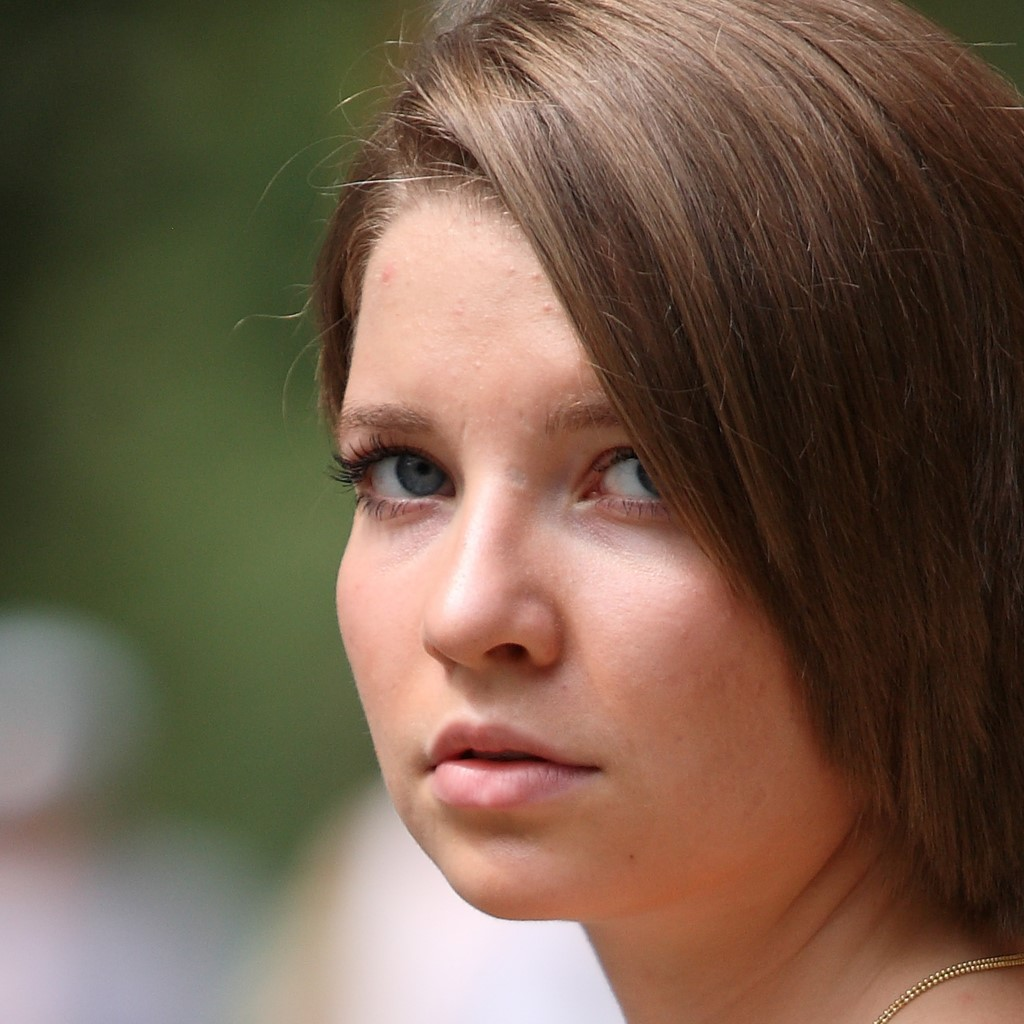sin_mascara: (335, 190, 833, 941)
